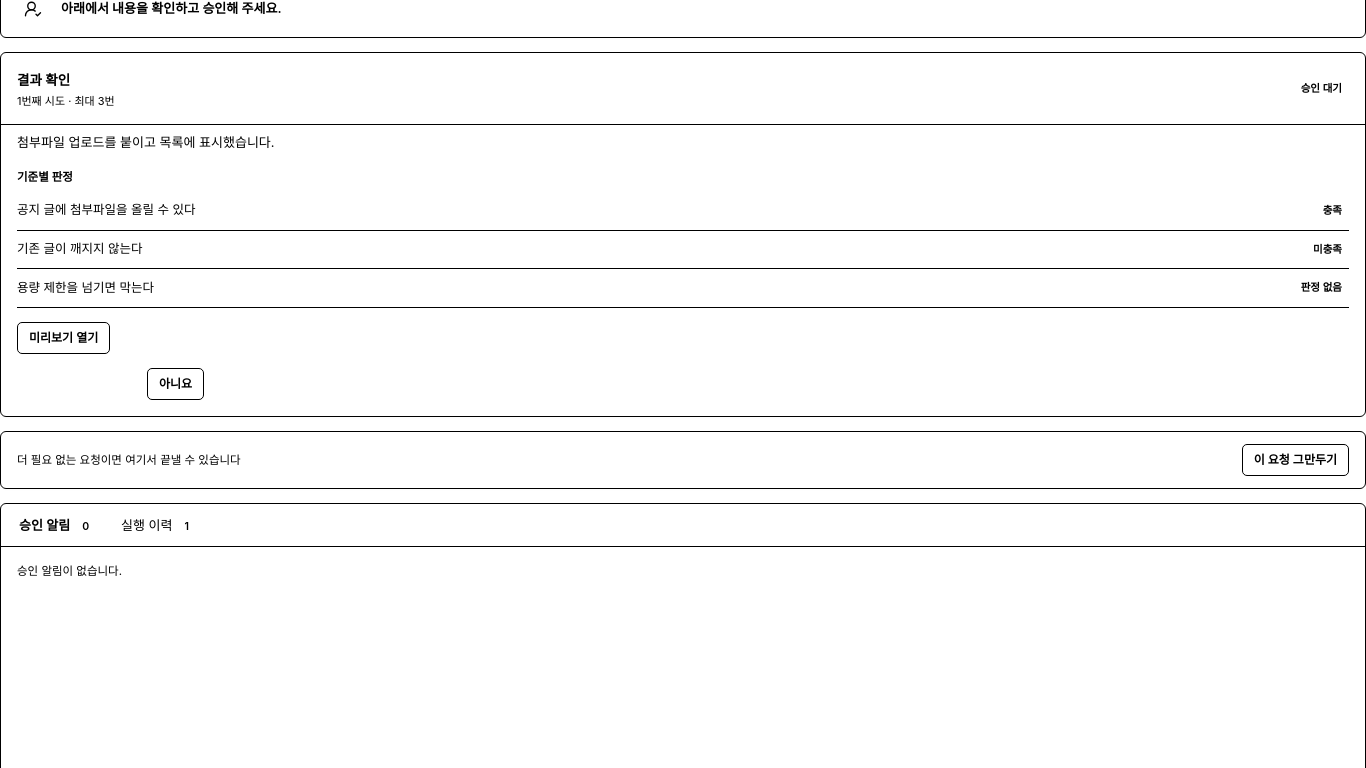
Test: rejecting with attempts left promises another try, and says which one
(page scrolled)
Click the button "아니요": {"x": 176, "y": 384} [147,368,204,400]
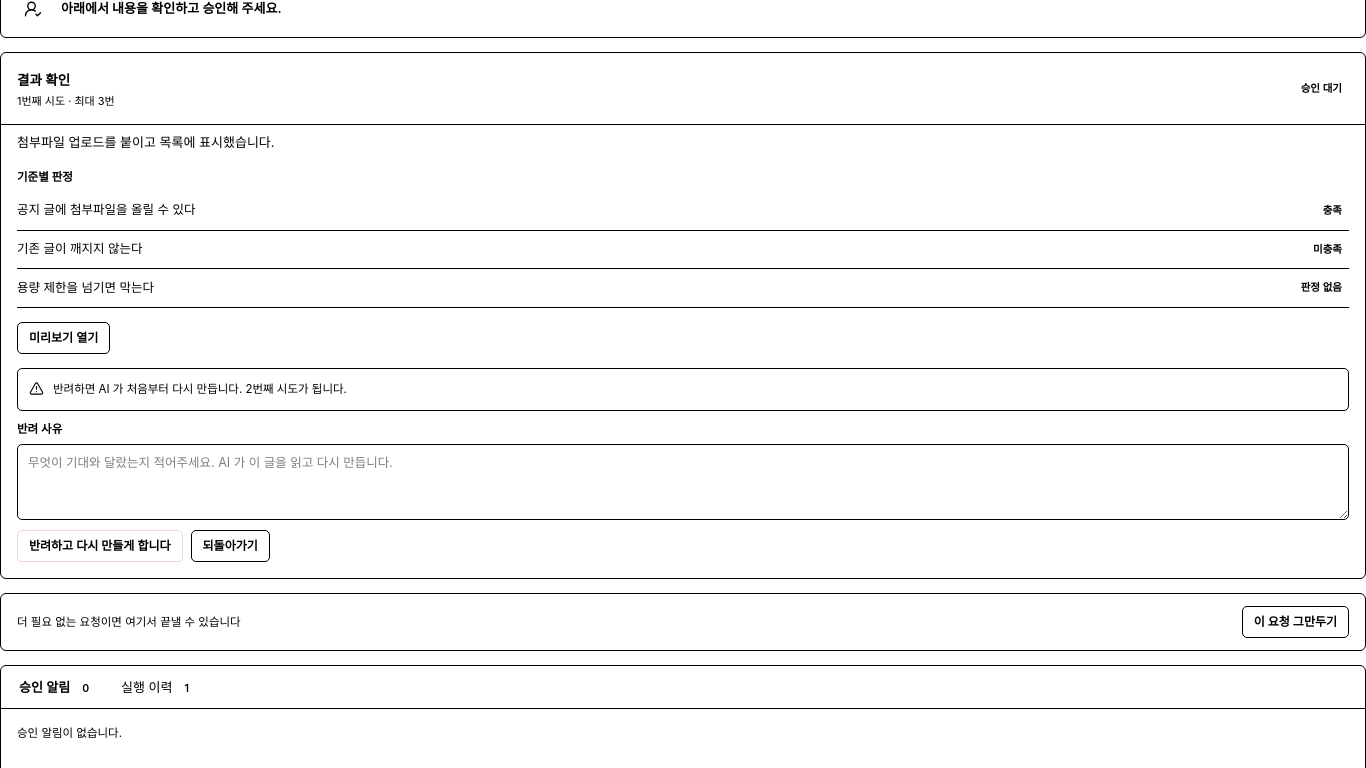
Now the text "반려하면 AI 가 처음부터 다시 만듭니다. 2번째 시도가 됩니다." is shown, box [53,380,347,399]
Now the button "반려하고 다시 만들게 합니다" is disabled, box [17,530,183,562]
